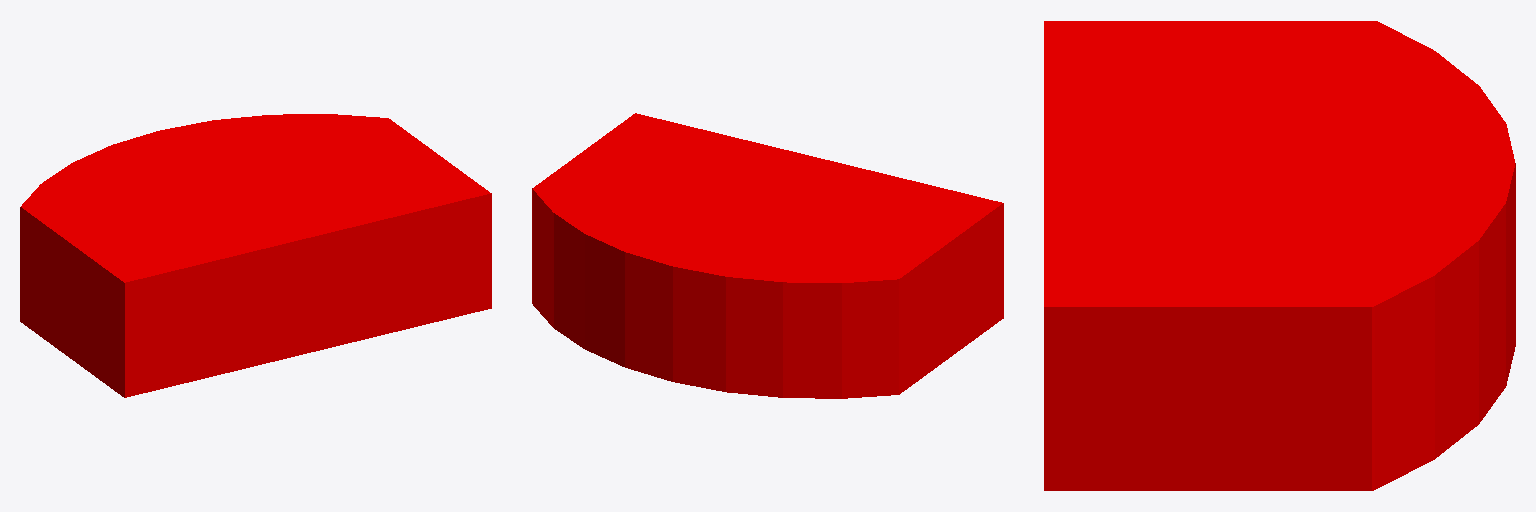
The robot description file, URDF, robot "convex-object":
<?xml version="1.0"?>
<robot name="convex-object">

  <link name="base_link">
    <visual>
      <geometry>
        <mesh filename="package://asset/real-world/convex-object/convex-object.obj" scale="1 1 1"/>
      </geometry>
      <material name="color">
        <color rgba="1 0 0 1"/> <!-- Red. a: transparency. -->
      </material>
    </visual>
    <collision>
      <geometry>
        <mesh filename="package://asset/real-world/convex-object/convex-object.obj" scale="1 1 1"/>
      </geometry>
    </collision>
    <inertial>
      <mass value="42"/> 
      <origin xyz="0 0 0"/> 
      <inertia ixx="1" iyy="1" izz="1"/> 
    </inertial>

  </link>

</robot>

--- What the picture shows (computed from the rendered views, not written in the file) ---
3 views of the same robot in one strip: view 1: azimuth 30°, elevation 25°; view 2: azimuth 150°, elevation 25°; view 3: azimuth 270°, elevation 25° (orthographic).
Model convex-object with 1 links and 0 joints (none), rooted at base_link, posed every joint at zero.
Links seen in each view (by area): view 1: base_link; view 2: base_link; view 3: base_link.
Link boxes in pixels (x1=…): base_link: x1=20, y1=114, x2=491, y2=397; base_link: x1=532, y1=113, x2=1003, y2=398; base_link: x1=1044, y1=21, x2=1515, y2=490.
Size in the robot's own frame: 0.9856 by 0.6855 by 0.2957 metres.
Meshes: 1 distinct files referenced, 1 mesh visuals loaded (1 OBJ).